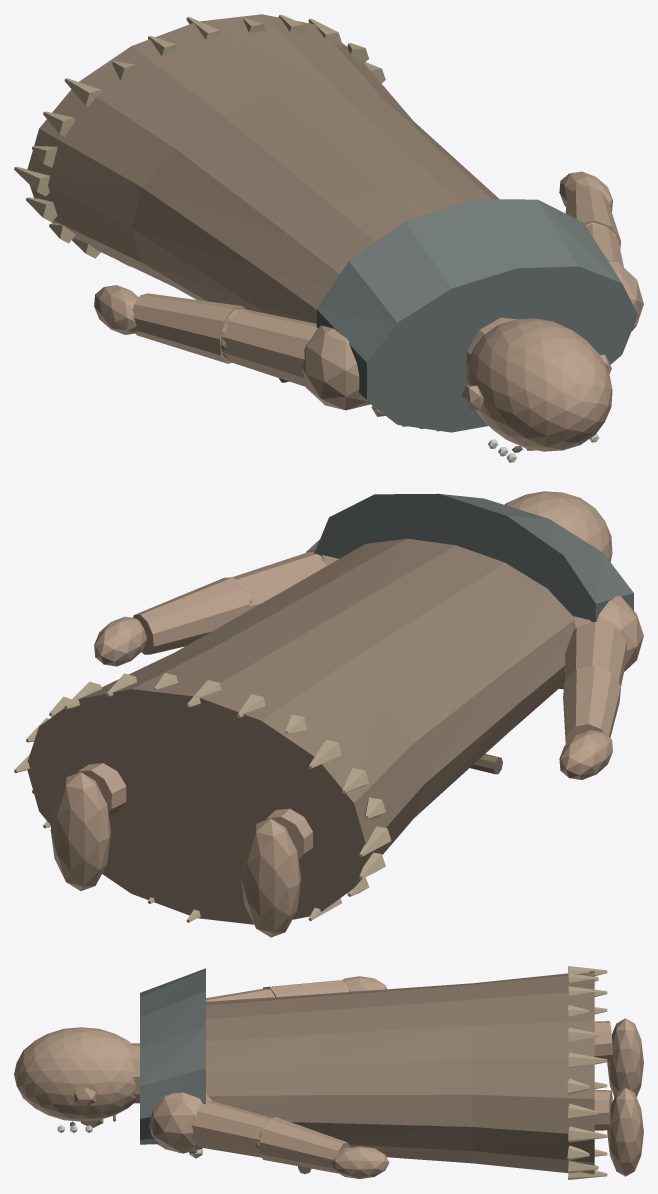
Rendered from man_sturdy__shaman.glb.
The picture shows the model from 3 angles, top to bottom: view 1: azimuth 30°, elevation 25°; view 2: azimuth 150°, elevation 25°; view 3: azimuth 270°, elevation 25°; orthographic projection. The views are drawn at different scales.
Visible parts, largest first — view 1: part_027, part_055, part_010, part_018, part_020, part_017, part_021, part_025, part_026, part_023, part_022; view 2: part_027, part_055, part_003, part_007, part_025, part_020, part_010, part_018, part_023, part_021, part_026, part_017 (+2 smaller); view 3: part_027, part_010, part_055, part_025, part_023, part_007, part_022, part_003, part_026, part_020, part_006, part_002 (+7 smaller).
Part boxes in pixels (x1,y1,x2,y2): part_027: (27,14,499,323); part_055: (316,199,637,432); part_010: (466,318,612,451); part_018: (221,309,317,386); part_020: (132,293,244,363); part_017: (302,325,370,410); part_021: (94,285,138,334); part_025: (565,186,620,248); part_026: (559,171,612,211); part_023: (586,224,623,267); part_022: (607,259,643,331); part_027: (27,538,573,924); part_055: (314,493,633,621); part_003: (240,818,300,937); part_007: (50,772,110,890); part_025: (133,577,250,654); part_020: (563,665,620,744); part_010: (504,491,612,561); part_018: (565,621,626,685); part_023: (232,551,326,608); part_021: (559,730,612,779); part_026: (94,616,146,666); part_017: (573,596,643,671); part_027: (206,970,594,1174); part_010: (14,1027,136,1121); part_055: (140,968,205,1144); part_025: (259,1117,350,1173); part_023: (191,1101,271,1157); part_007: (607,1087,643,1176); part_022: (149,1092,212,1153); part_003: (607,1018,643,1096); part_026: (331,1146,389,1178); part_020: (263,980,348,996); part_006: (594,1089,612,1130); part_002: (594,1021,612,1061).
Size of the model in its own units: 1.71 by 0.7627 by 2.48.
